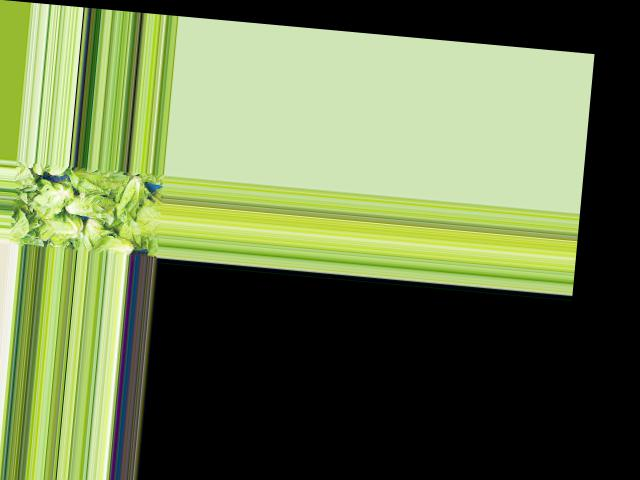lettuce: (90, 232, 141, 255)
